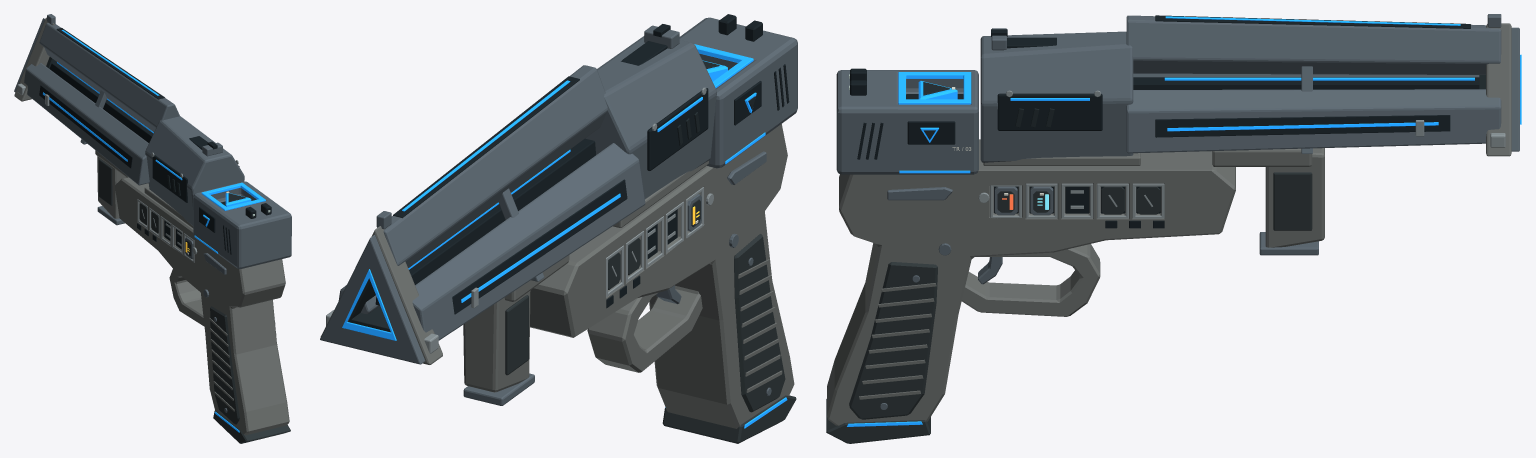
File: TriangleBeamCarbine.glb
3 renders of one model, left to right at view 1: azimuth 30°, elevation 25°; view 2: azimuth 150°, elevation 25°; view 3: azimuth 270°, elevation 25°, orthographic. The views are drawn at different scales.
Visible parts, largest first — view 1: Frame | continuous receiver and swept grip, MultiWeapon | shared rear receiver, TRI_Breech, TRI_RailHousing_1, TRI_RailHousing_0, Grip | contoured panel -1, TRI_BeamCore, Frame | open shaped trigger guard, TRI_SideRailInset_-1, TRI_BreechPanel_-1, Grip | fitted heel plate, TRI_ForwardCollar (+5 smaller); view 2: Frame | continuous receiver and swept grip, TRI_RailHousing_1, TRI_RailHousing_0, TRI_Breech, MultiWeapon | shared rear receiver, Frame | open shaped trigger guard, Grip | contoured panel -1, TRI_MuzzleFace, TRI_AngledSupport, TRI_BeamCore, TRI_SideRailInset_-1, TRI_BreechPanel_-1 (+17 smaller); view 3: Frame | continuous receiver and swept grip, TRI_RailHousing_0, TRI_RailHousing_2, TRI_Breech, MultiWeapon | shared rear receiver, Grip | contoured panel 1, Frame | open shaped trigger guard, TRI_SideRailInset_1, TRI_BeamCore, TRI_BreechPanel_1, TRI_AngledSupport, TRI_SupportPad_1 (+15 smaller).
Part boxes in pixels (left/top/right/bottom): Frame | continuous receiver and swept grip: left=115, top=177, right=289, bottom=435; MultiWeapon | shared rear receiver: left=193, top=181, right=291, bottom=269; TRI_Breech: left=145, top=116, right=244, bottom=225; TRI_RailHousing_1: left=24, top=63, right=149, bottom=185; TRI_RailHousing_0: left=39, top=23, right=179, bottom=131; Grip | contoured panel -1: left=210, top=306, right=239, bottom=424; TRI_BeamCore: left=49, top=59, right=153, bottom=142; Frame | open shaped trigger guard: left=169, top=269, right=204, bottom=326; TRI_SideRailInset_-1: left=39, top=85, right=132, bottom=168; TRI_BreechPanel_-1: left=152, top=155, right=187, bottom=202; Grip | fitted heel plate: left=213, top=410, right=290, bottom=443; TRI_ForwardCollar: left=14, top=17, right=54, bottom=101; Frame | continuous receiver and swept grip: left=530, top=124, right=794, bottom=428; TRI_RailHousing_1: left=412, top=143, right=645, bottom=340; TRI_RailHousing_0: left=383, top=65, right=607, bottom=267; TRI_Breech: left=585, top=36, right=716, bottom=198; MultiWeapon | shared rear receiver: left=679, top=17, right=797, bottom=168; Frame | open shaped trigger guard: left=587, top=285, right=702, bottom=372; Grip | contoured panel -1: left=734, top=234, right=785, bottom=412; TRI_MuzzleFace: left=320, top=235, right=425, bottom=364; TRI_AngledSupport: left=463, top=290, right=530, bottom=392; TRI_BeamCore: left=375, top=138, right=595, bottom=305; TRI_SideRailInset_-1: left=452, top=179, right=627, bottom=314; TRI_BreechPanel_-1: left=647, top=88, right=708, bottom=170; Frame | continuous receiver and swept grip: left=827, top=139, right=1235, bottom=425; TRI_RailHousing_0: left=1126, top=15, right=1501, bottom=74; TRI_RailHousing_2: left=1126, top=89, right=1501, bottom=153; TRI_Breech: left=980, top=31, right=1133, bottom=162; MultiWeapon | shared rear receiver: left=836, top=70, right=978, bottom=174; Grip | contoured panel 1: left=849, top=262, right=937, bottom=419; Frame | open shaped trigger guard: left=962, top=244, right=1100, bottom=316; TRI_SideRailInset_1: left=1155, top=115, right=1450, bottom=137; TRI_BeamCore: left=1133, top=77, right=1479, bottom=89; TRI_BreechPanel_1: left=997, top=93, right=1102, bottom=130; TRI_AngledSupport: left=1265, top=148, right=1324, bottom=247; TRI_SupportPad_1: left=1273, top=172, right=1312, bottom=230.
Bounding box in the file's own units: 0.0676 × 0.2684 × 0.41.
